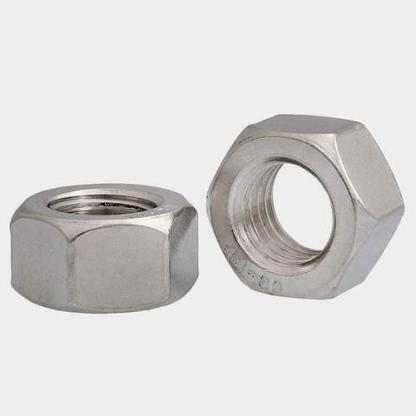FOD: (202, 113, 406, 302), (6, 190, 201, 313)
